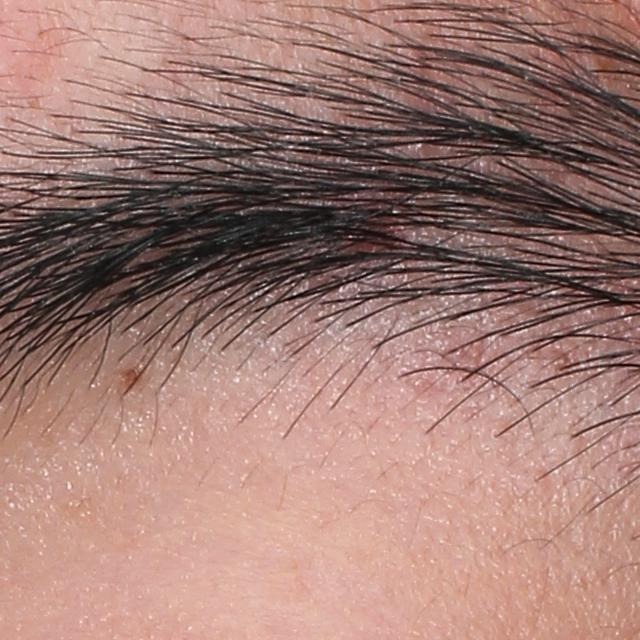nevus: (117, 363, 149, 394)
